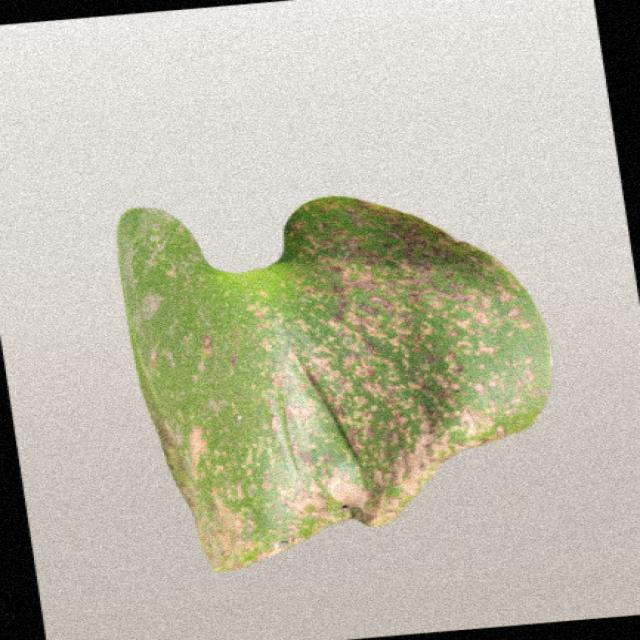daun berpenyakit bercak: (119, 198, 552, 571)
